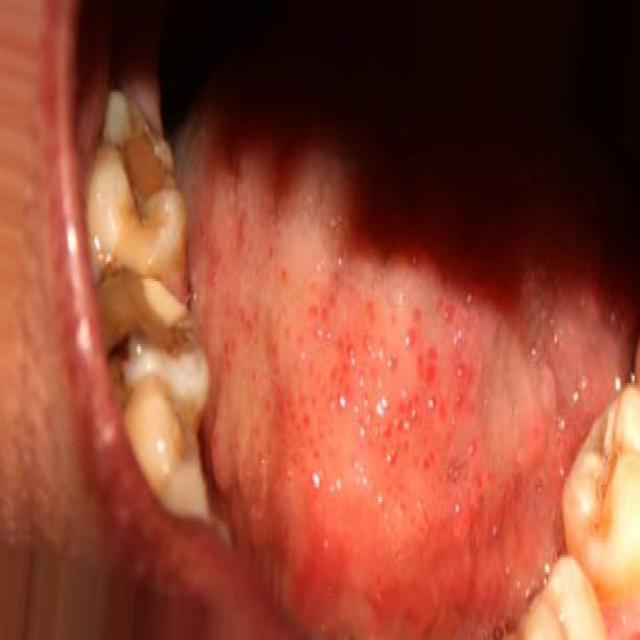caries: (89, 86, 184, 258), (97, 261, 205, 398)
